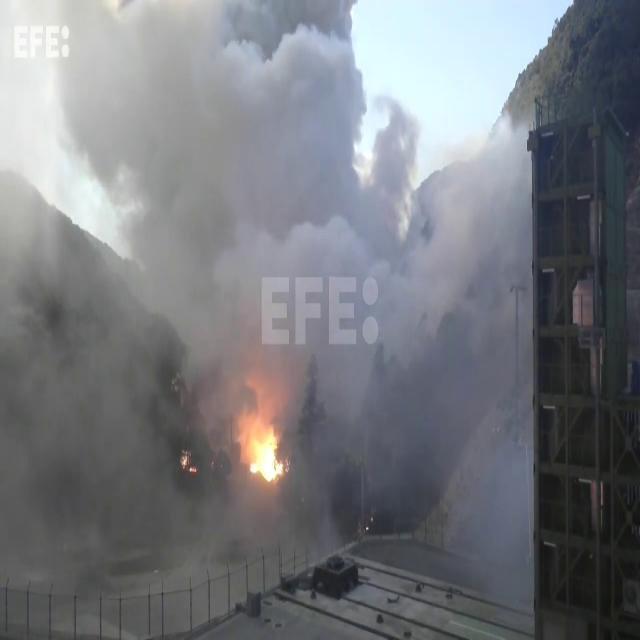Fire: (234, 408, 286, 488)
Smoke: (120, 0, 535, 567), (0, 216, 221, 569)
